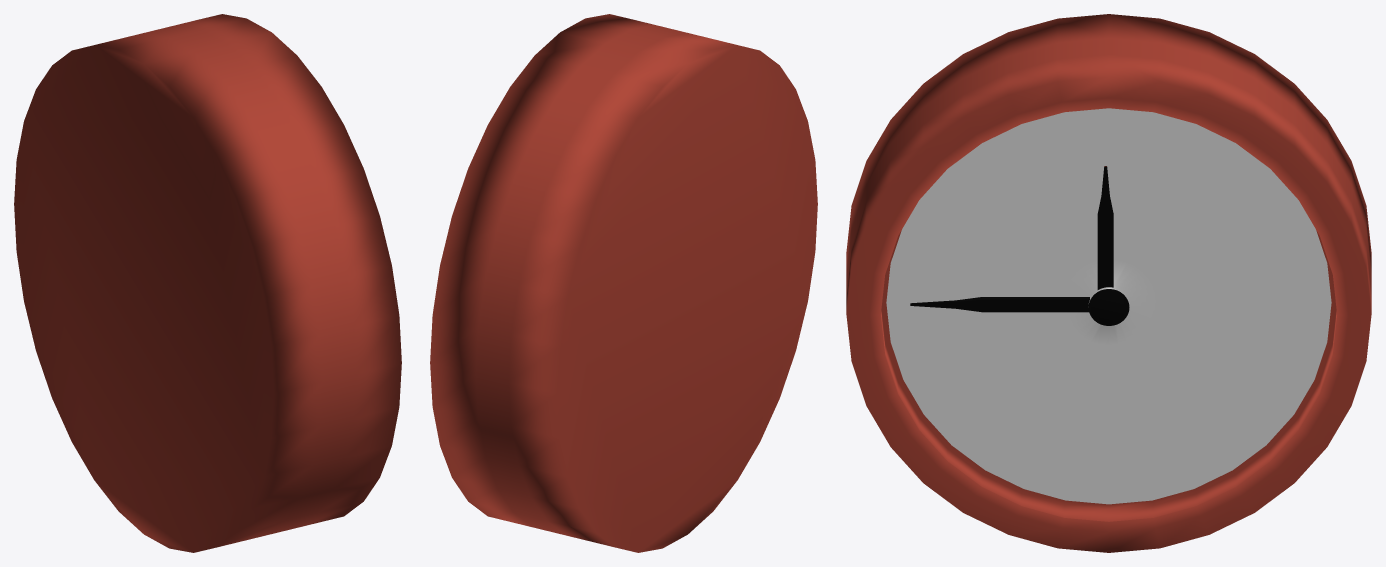
Rendered from Reloj Salon.fbx.
3 views of the same model, side by side, from view 1: azimuth 30°, elevation 25°; view 2: azimuth 150°, elevation 25°; view 3: azimuth 270°, elevation 25° (orthographic).
Visible parts, largest first — view 1: Reloj.001; view 2: Reloj.001; view 3: Reloj.001.
Part boxes in pixels (x1=…): Reloj.001: x1=14, y1=14, x2=401, y2=552; Reloj.001: x1=430, y1=14, x2=817, y2=552; Reloj.001: x1=846, y1=14, x2=1371, y2=552.
Bounding box in the file's own units: 13.47 × 47.33 × 47.33.
